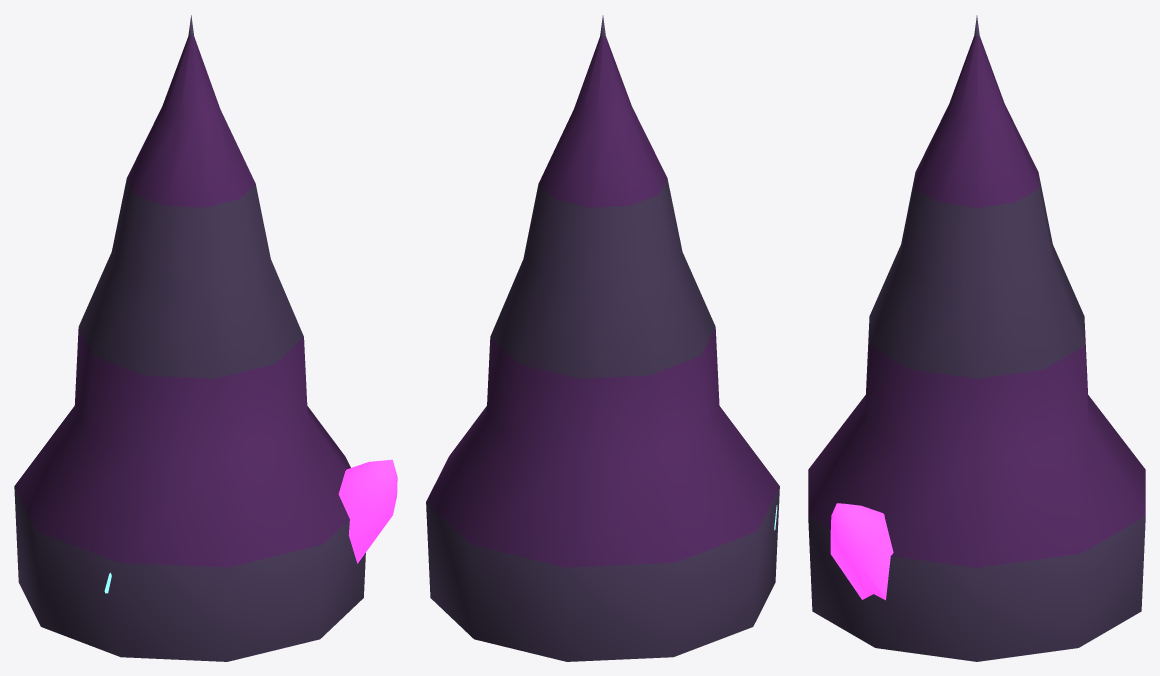
Rendered from W4_Stalagmite_A.fbx.
3 views of the same model, side by side, from view 1: azimuth 30°, elevation 25°; view 2: azimuth 150°, elevation 25°; view 3: azimuth 270°, elevation 25° (orthographic).
Visible parts, largest first — view 1: W4_Stalagmite_A; view 2: W4_Stalagmite_A; view 3: W4_Stalagmite_A.
Boxes of the visible parts, x1,y1,x2,y2 form: W4_Stalagmite_A: [14, 15, 397, 661]; W4_Stalagmite_A: [426, 15, 779, 661]; W4_Stalagmite_A: [808, 15, 1145, 661].
Size of the model in its own units: 2.44 by 4.37 by 2.32.
